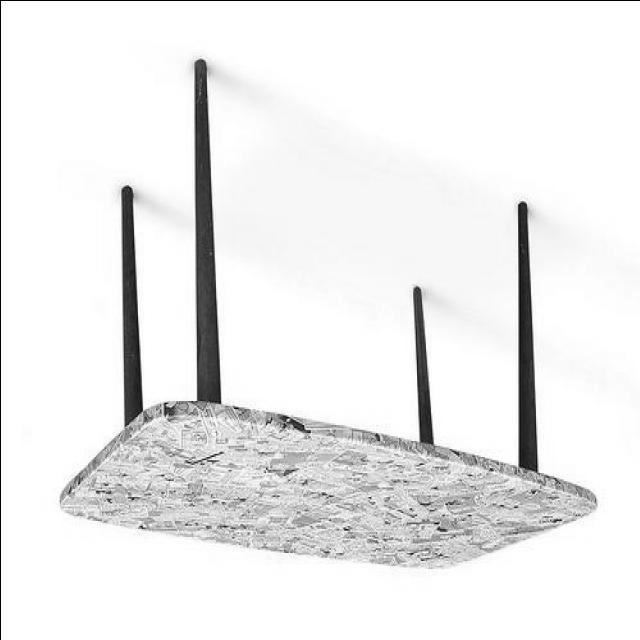table: (55, 59, 597, 570)
